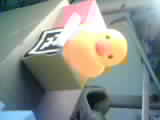duck: (60, 9, 132, 86)
